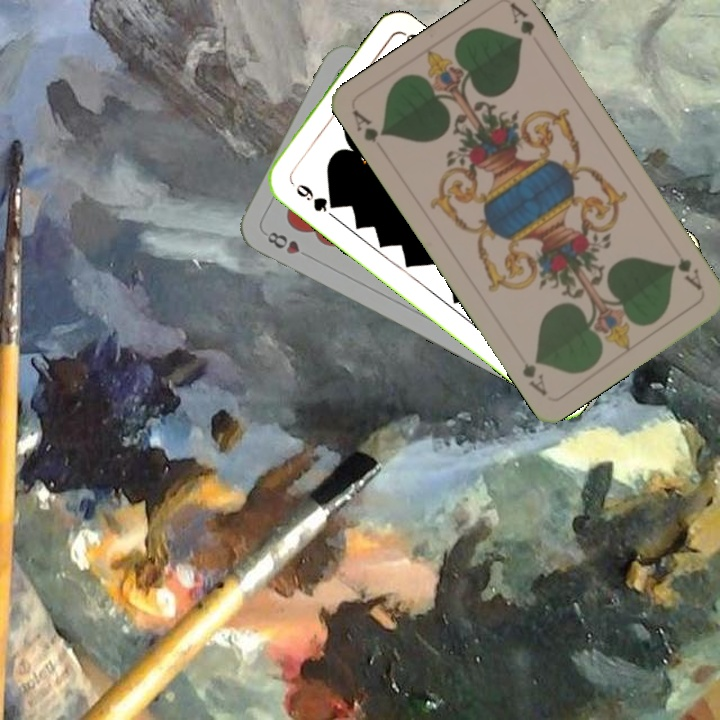G9: (285, 175, 340, 215)
GA: (348, 106, 389, 145), (668, 254, 705, 293)
H8: (263, 227, 302, 257)
